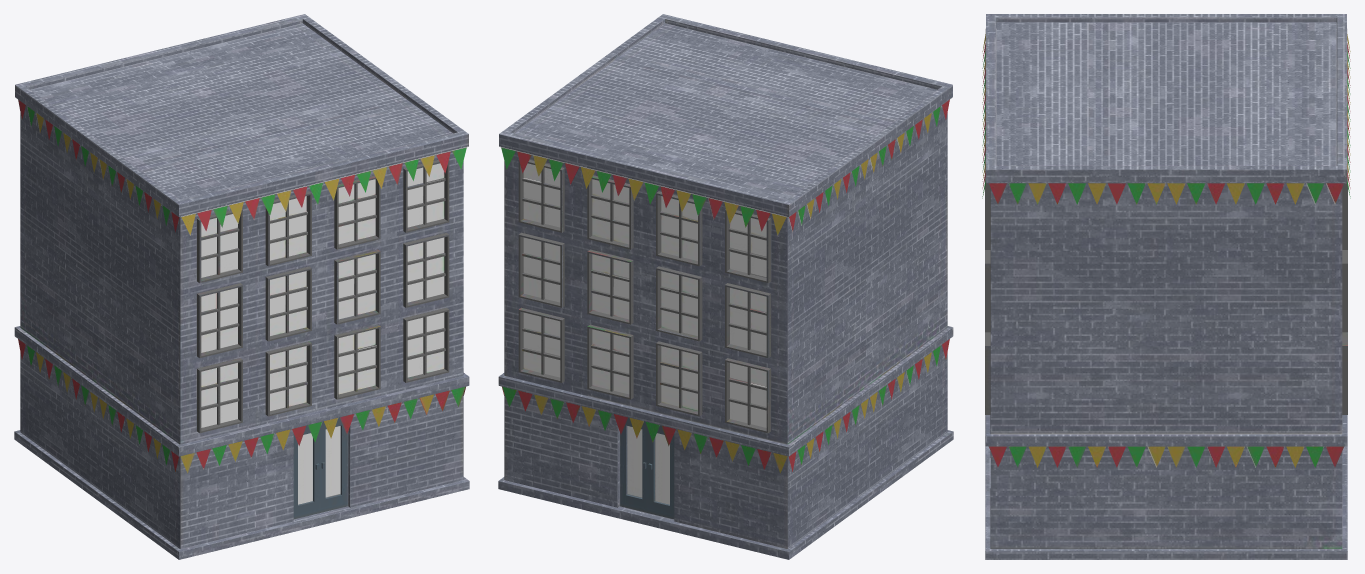
The model's file is BUILDING_CorporateHumor_1.fbx.
3 renders of one model, left to right at view 1: azimuth 30°, elevation 25°; view 2: azimuth 150°, elevation 25°; view 3: azimuth 270°, elevation 25°, orthographic. The views are drawn at different scales.
Visible parts, largest first — view 1: BUILDING_CorporateHumor_1_Baked; view 2: BUILDING_CorporateHumor_1_Baked; view 3: BUILDING_CorporateHumor_1_Baked.
Part boxes in pixels (x1,y1,x2,y2): BUILDING_CorporateHumor_1_Baked: [14, 14, 469, 559]; BUILDING_CorporateHumor_1_Baked: [498, 14, 953, 559]; BUILDING_CorporateHumor_1_Baked: [982, 14, 1350, 559].
Size of the model in its own units: 123 by 144 by 123.
Materials: 1 (1 with a texture image).
